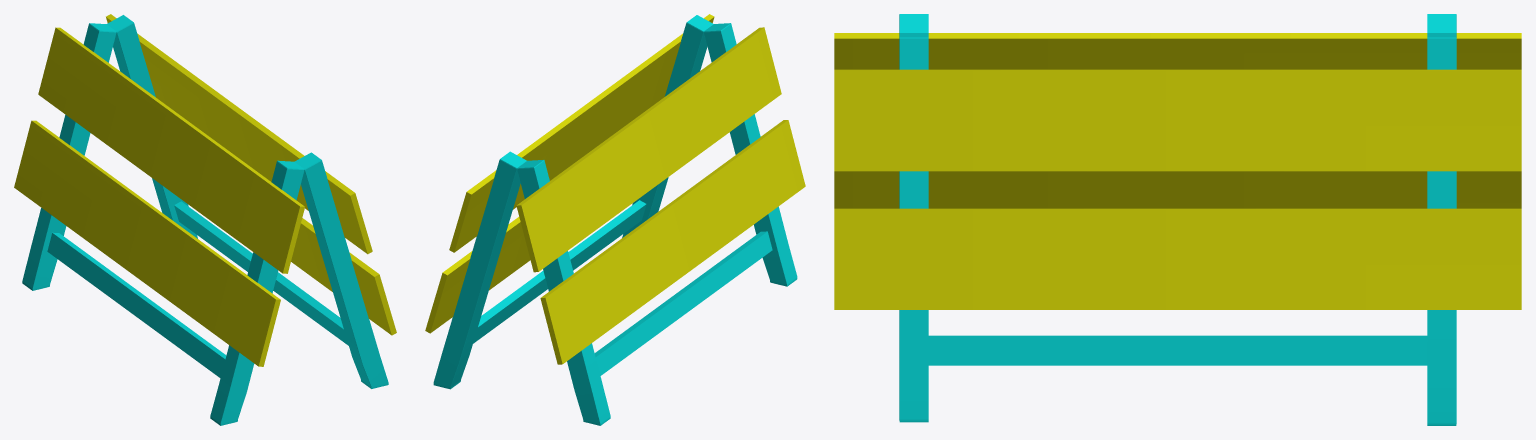
The model's file is SM_OB_BreakableBarrier_v03.fbx.
3 renders of one model, left to right at view 1: azimuth 30°, elevation 25°; view 2: azimuth 150°, elevation 25°; view 3: azimuth 270°, elevation 25°, orthographic. The views are drawn at different scales.
Visible parts, largest first — view 1: BreakableBarrier; view 2: BreakableBarrier; view 3: BreakableBarrier.
Part boxes in pixels (x1,y1,x2,y2): BreakableBarrier: (14, 14, 396, 425); BreakableBarrier: (425, 14, 805, 425); BreakableBarrier: (834, 14, 1521, 425).
Size of the model in its own units: 206 by 285 by 519.
